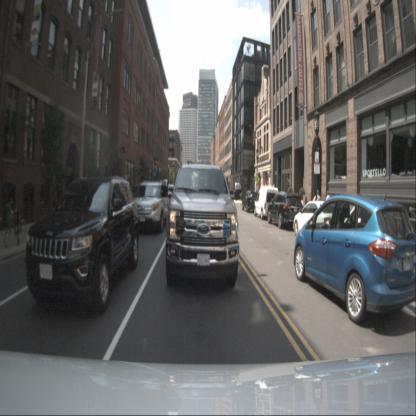human-pedestrian-adult: (312, 189, 322, 225), (324, 191, 332, 225)
vehicle-bicycle: (4, 205, 27, 249)
vehicle-car: (293, 193, 416, 325), (26, 175, 139, 315), (165, 163, 240, 287), (292, 200, 348, 244), (132, 180, 172, 234), (267, 191, 304, 231), (254, 186, 279, 220), (242, 190, 261, 213)
